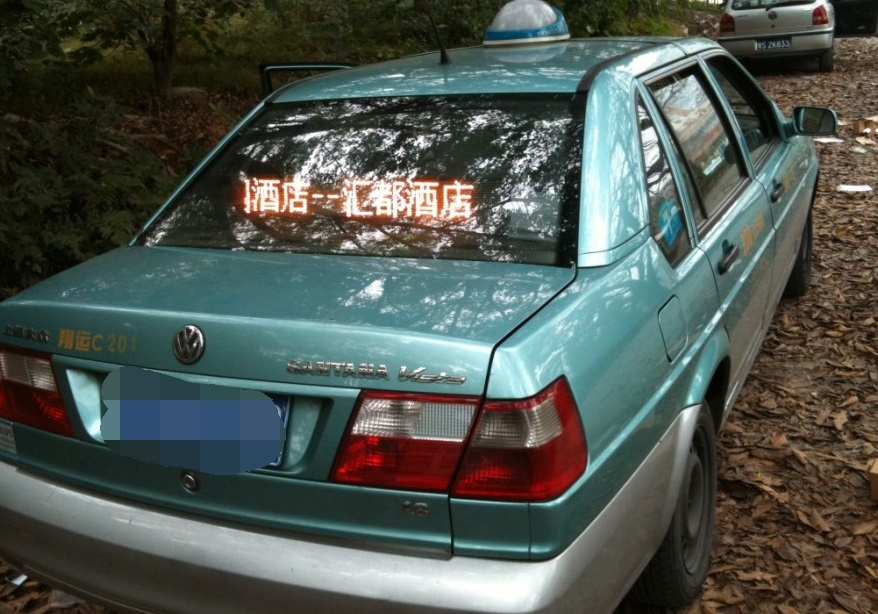taxi: (27, 31, 817, 600)
